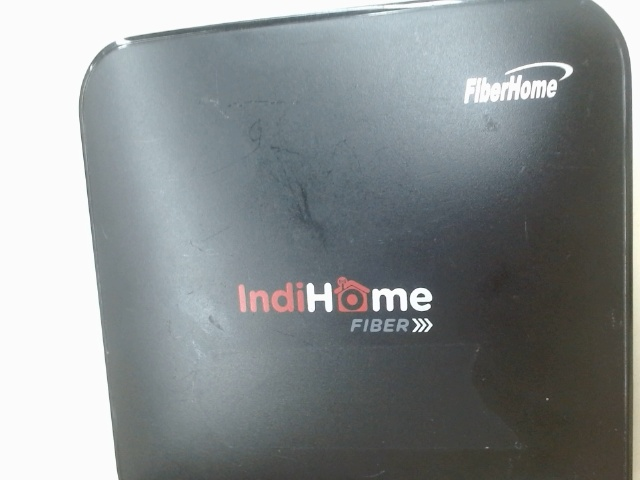AF_IndiHome: (219, 268, 439, 345)
